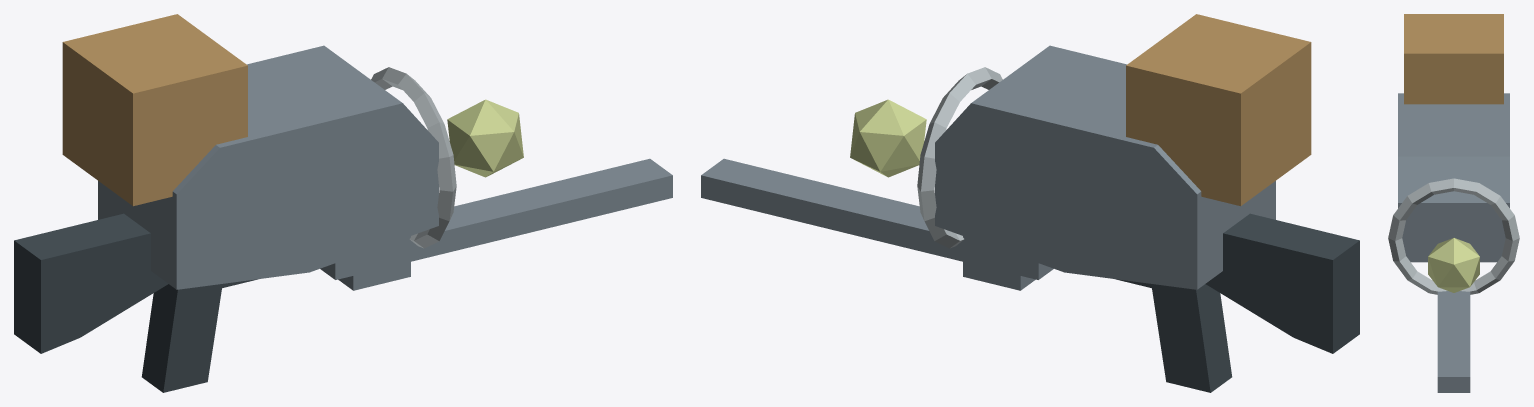
Rendered from w27-bankshot.glb.
3 renders of one model, left to right at view 1: azimuth 30°, elevation 25°; view 2: azimuth 150°, elevation 25°; view 3: azimuth 270°, elevation 25°, orthographic. The views are drawn at different scales.
Parts seen in each view (by area): view 1: w27-bankshot__receiver, w27-bankshot__reactor_pack, w27-bankshot__stock, w27-bankshot__field_spine, w27-bankshot__grip, w27-bankshot__suspended_core, w27-bankshot__field_ring_0, w27-bankshot__field_spine_mount; view 2: w27-bankshot__receiver, w27-bankshot__reactor_pack, w27-bankshot__stock, w27-bankshot__field_spine, w27-bankshot__grip, w27-bankshot__suspended_core, w27-bankshot__field_ring_0, w27-bankshot__field_spine_mount; view 3: w27-bankshot__receiver, w27-bankshot__reactor_pack, w27-bankshot__field_ring_0, w27-bankshot__field_spine, w27-bankshot__suspended_core.
Boxes of the visible parts, box(x1,y1,x2,y2) form: w27-bankshot__receiver: box(98, 45, 438, 289); w27-bankshot__reactor_pack: box(62, 14, 247, 206); w27-bankshot__stock: box(14, 213, 168, 353); w27-bankshot__field_spine: box(320, 158, 672, 279); w27-bankshot__grip: box(141, 284, 222, 392); w27-bankshot__suspended_core: box(447, 99, 523, 177); w27-bankshot__field_ring_0: box(371, 67, 456, 248); w27-bankshot__field_spine_mount: box(338, 236, 410, 290); w27-bankshot__receiver: box(935, 45, 1275, 289); w27-bankshot__reactor_pack: box(1126, 14, 1311, 206); w27-bankshot__stock: box(1205, 213, 1359, 353); w27-bankshot__field_spine: box(701, 158, 1053, 279); w27-bankshot__grip: box(1151, 284, 1232, 392); w27-bankshot__suspended_core: box(850, 99, 926, 177); w27-bankshot__field_ring_0: box(917, 67, 1002, 248); w27-bankshot__field_spine_mount: box(963, 236, 1035, 290); w27-bankshot__receiver: box(1398, 93, 1509, 262); w27-bankshot__reactor_pack: box(1404, 14, 1503, 104); w27-bankshot__field_ring_0: box(1388, 178, 1519, 294); w27-bankshot__field_spine: box(1437, 291, 1470, 392); w27-bankshot__suspended_core: box(1428, 238, 1479, 292).
Size of the model in its own units: 0.883 by 0.44 by 0.224.
